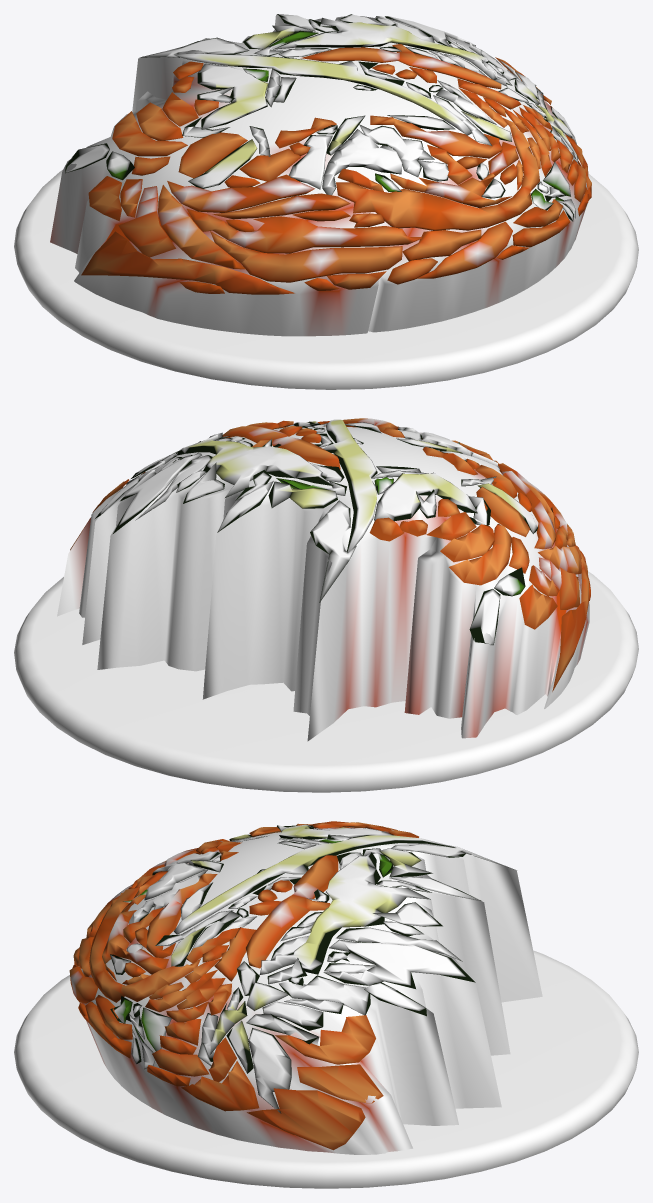
File: SM_D11_wok.fbx
3 renders of one model, top to bottom at view 1: azimuth 30°, elevation 25°; view 2: azimuth 150°, elevation 25°; view 3: azimuth 270°, elevation 25°, orthographic.
Visible parts, largest first — view 1: SM_D11_wok; view 2: SM_D11_wok; view 3: SM_D11_wok.
Boxes of the visible parts, bbox=[...] form: SM_D11_wok: bbox=[14, 14, 638, 389]; SM_D11_wok: bbox=[14, 418, 638, 792]; SM_D11_wok: bbox=[14, 821, 638, 1188].
Size of the model in its own units: 0.1578 by 0.0575 by 0.162.
